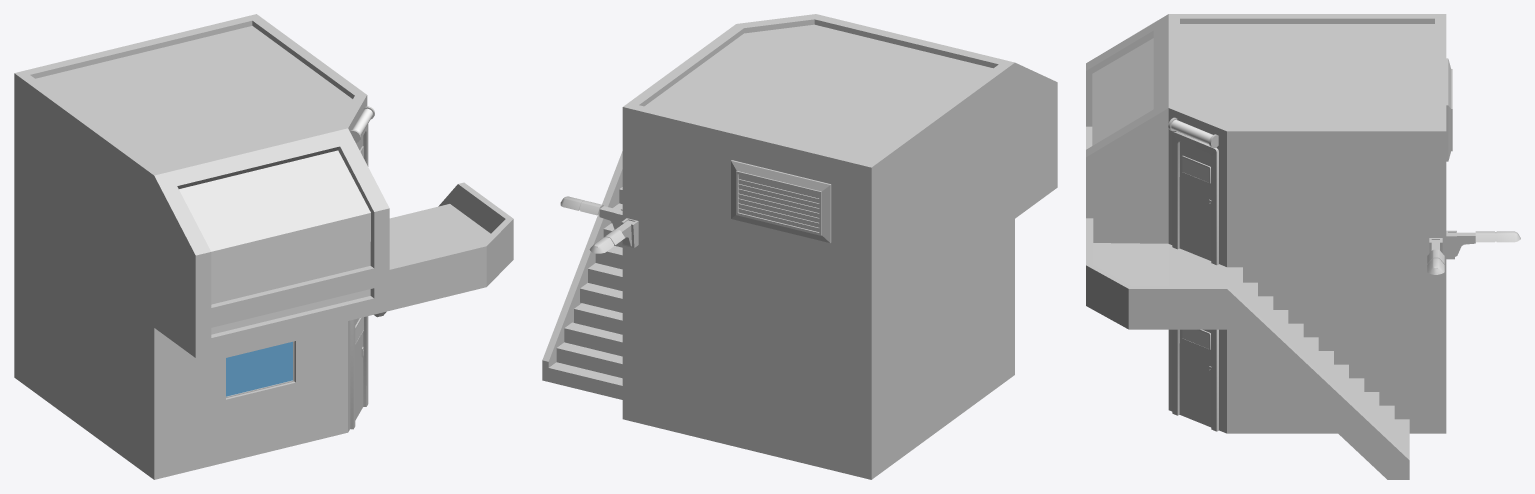
Rendered from angled_building.glb.
The picture shows the model from 3 angles, left to right: view 1: azimuth 30°, elevation 25°; view 2: azimuth 150°, elevation 25°; view 3: azimuth 270°, elevation 25°; orthographic projection. The views are drawn at different scales.
Parts seen in each view (by area): view 1: BuildingBase, Door; view 2: BuildingBase, Vent.002, Light.001, Light; view 3: BuildingBase, Door.001, Door, Light.001, Vent.002, Lighttube.001, Light.
Boxes of the visible parts, left/top/right/bottom form: BuildingBase: left=14, top=14, right=513, bottom=479; Door: left=350, top=316, right=368, bottom=429; BuildingBase: left=542, top=14, right=1057, bottom=479; Vent.002: left=731, top=160, right=831, bottom=242; Light.001: left=589, top=218, right=638, bottom=253; Light: left=560, top=196, right=622, bottom=229; BuildingBase: left=1086, top=14, right=1446, bottom=479; Door.001: left=1172, top=131, right=1218, bottom=265; Door: left=1172, top=329, right=1218, bottom=431; Light.001: left=1446, top=230, right=1520, bottom=259; Vent.002: left=1446, top=58, right=1452, bottom=161; Lighttube.001: left=1168, top=117, right=1218, bottom=147; Light: left=1427, top=238, right=1444, bottom=274.
Size of the model in its own units: 7 by 6 by 7.82.
